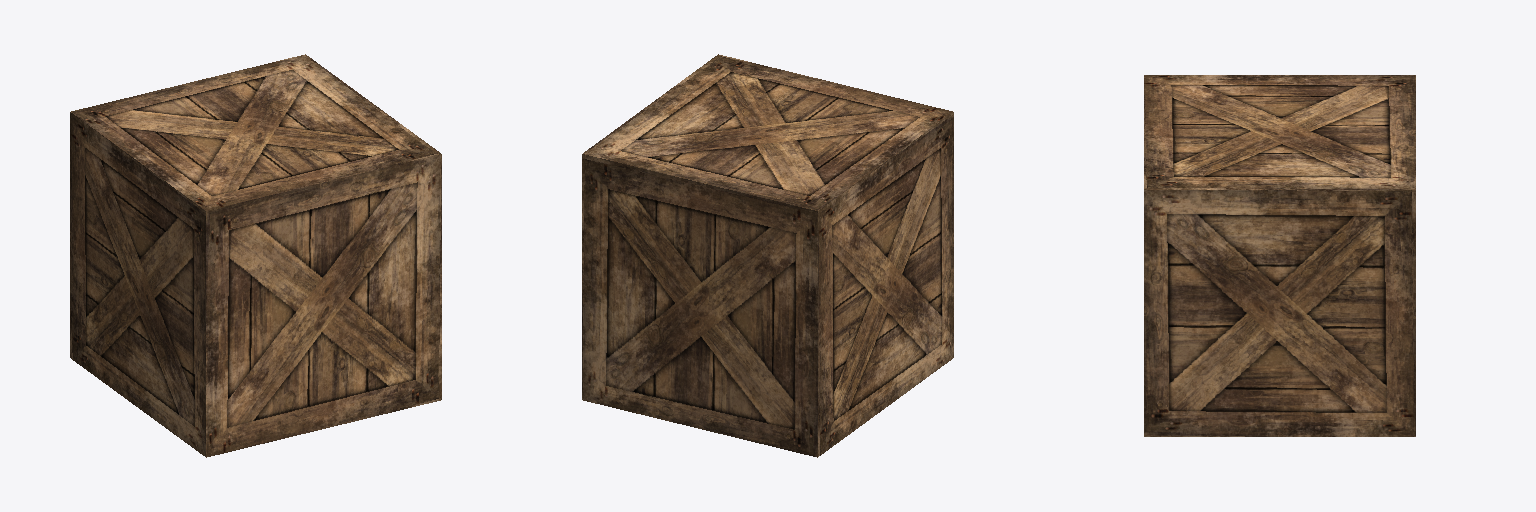
The picture shows the model from 3 angles: view 1: azimuth 30°, elevation 25°; view 2: azimuth 150°, elevation 25°; view 3: azimuth 270°, elevation 25°; orthographic projection.
Parts seen in each view (by area): view 1: Cube; view 2: Cube; view 3: Cube.
Part boxes in pixels (x1,y1,x2,y2): Cube: (70, 54, 441, 457); Cube: (582, 54, 953, 457); Cube: (1144, 75, 1415, 436).
Bounding box in the file's own units: 5 × 5 × 5.
1 materials, 1 textured.